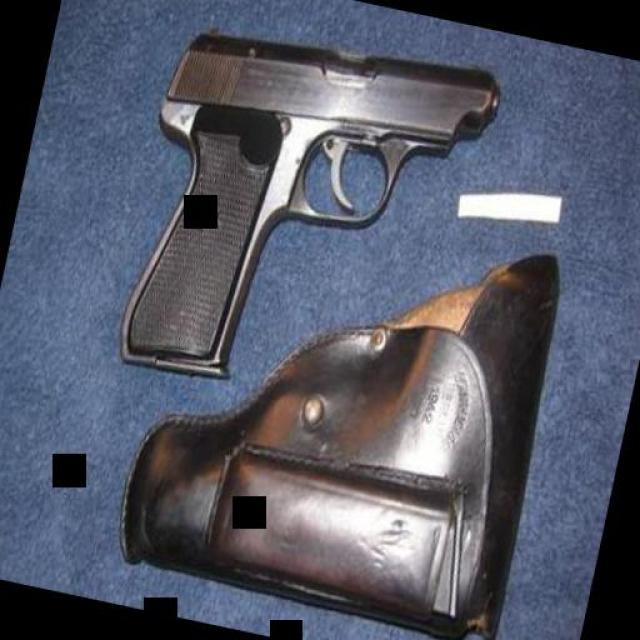gun: (103, 0, 505, 429)
